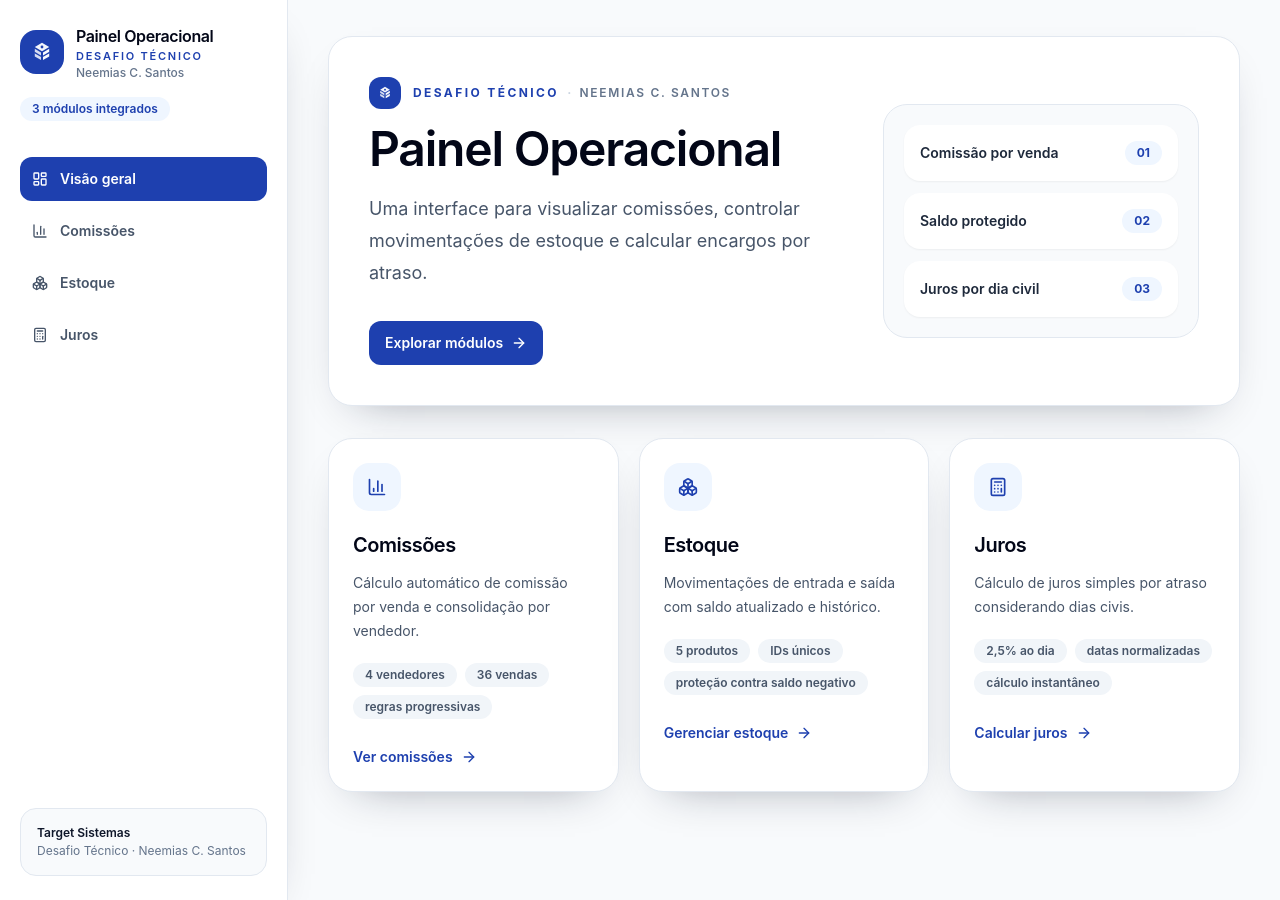
it: interface web › calcula juros para vencimento passado
Click the button "Juros" at (144, 334), box top-left (20, 312), bottom-right (267, 356)
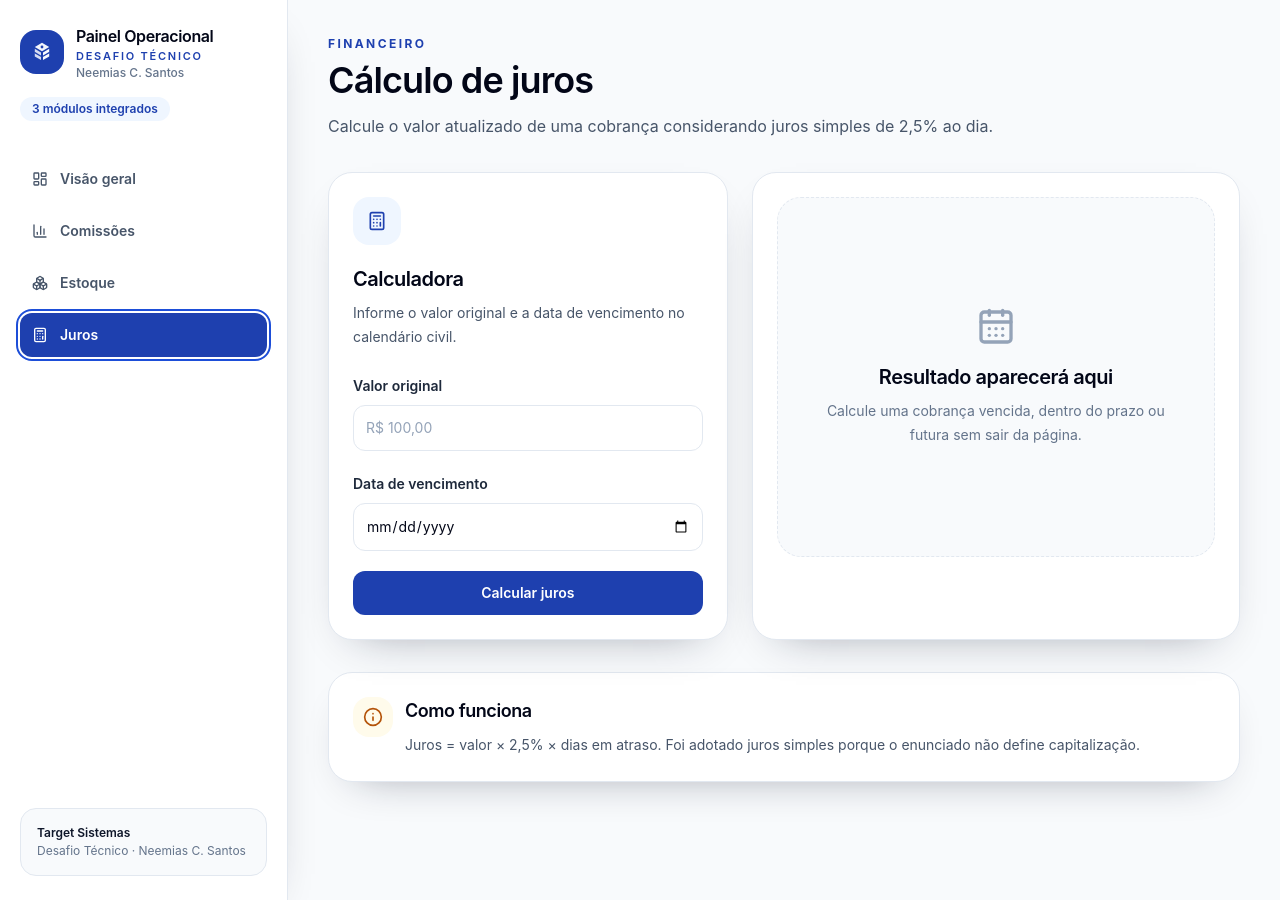
Type "100,00" into the field labelled "Valor original" at (528, 428), box top-left (353, 405), bottom-right (703, 451)
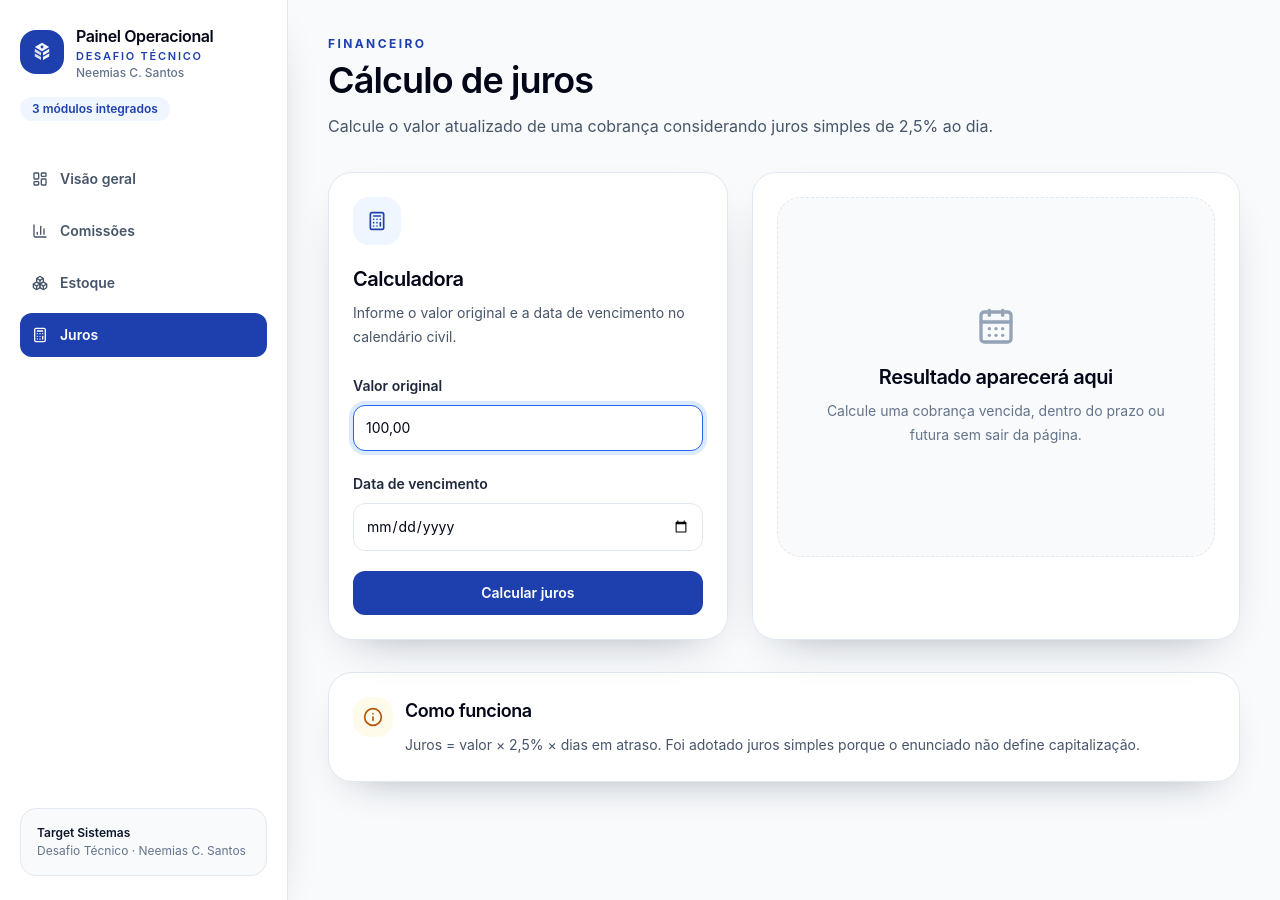
Type "2026-10-04" into the date field labelled "Data de vencimento" at (528, 527), box top-left (353, 503), bottom-right (703, 551)
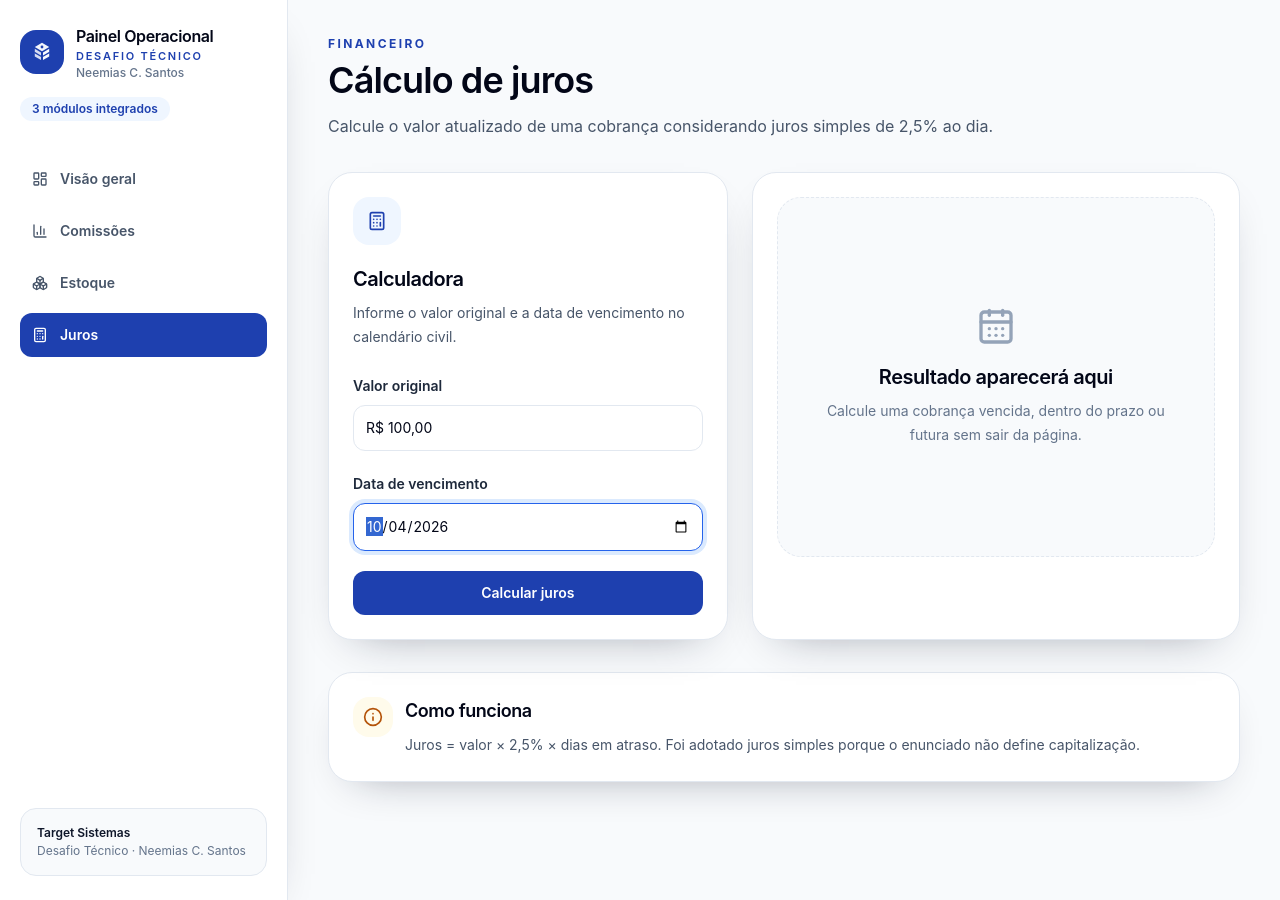
Click the button "Calcular juros" at (528, 593), box top-left (353, 571), bottom-right (703, 615)
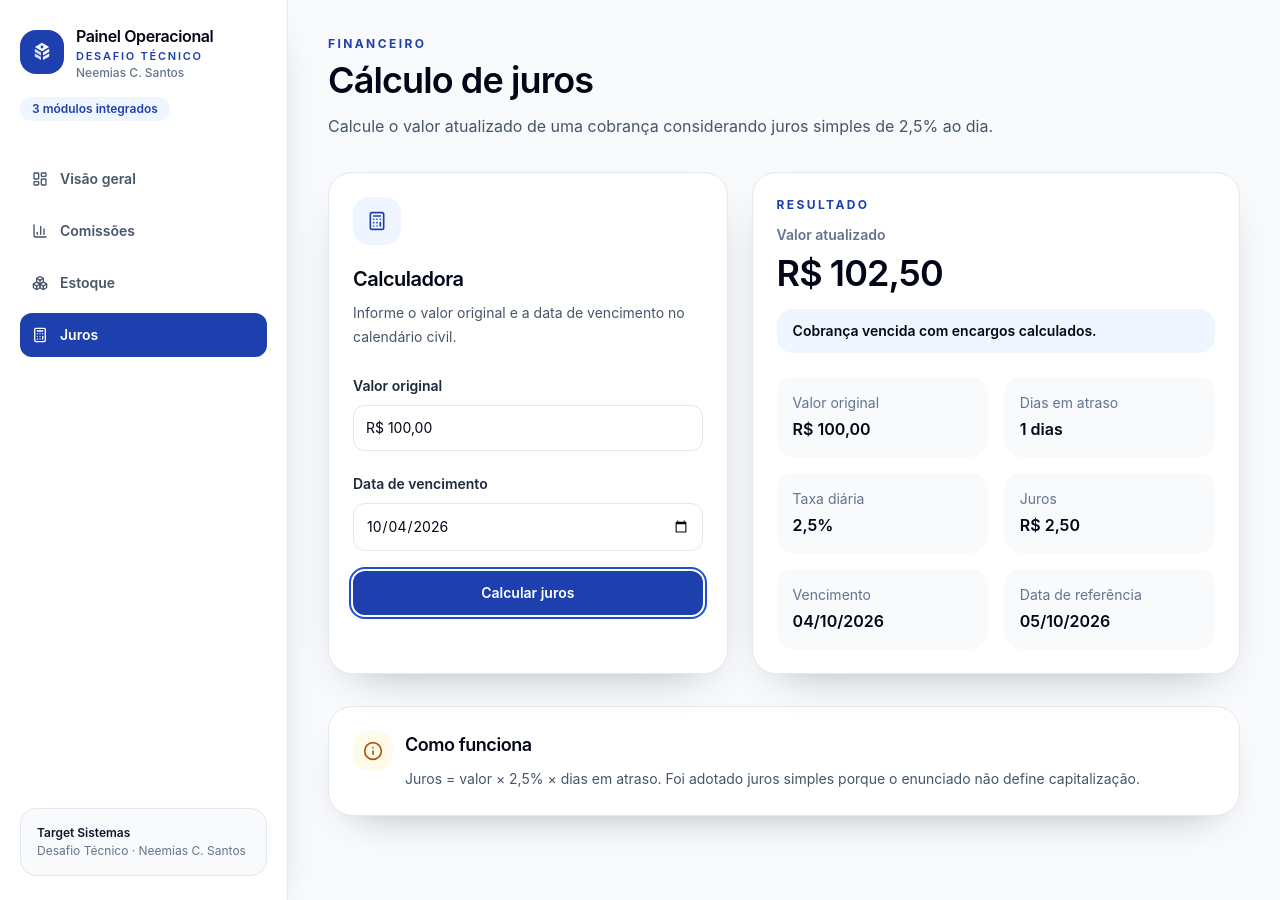
Check: the message with test id "interest-result" shows "R$ 102,50", box top-left (777, 251), bottom-right (943, 295)
Check: the message with test id "interest-result" shows "1 dias", box top-left (777, 197), bottom-right (1215, 649)
Check: the message with test id "interest-result" shows "R$ 2,50", box top-left (1020, 515), bottom-right (1080, 535)
